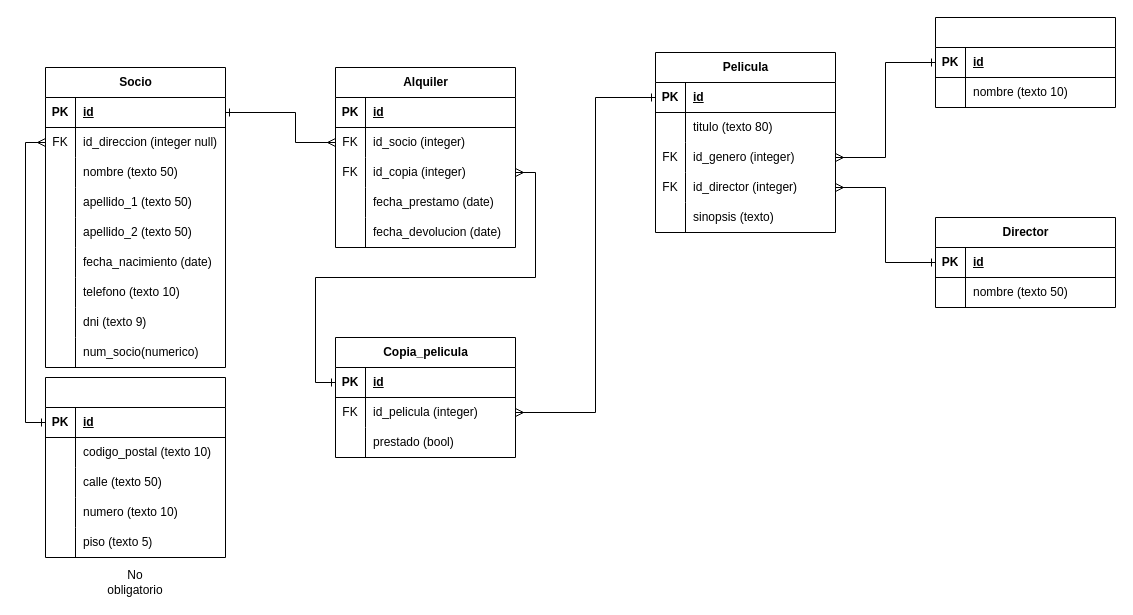
This 1133x615 diagram has some shape labels left out. Each missing label, with the box of its shape:
Direccion: (44, 376, 226, 558)
Genero: (934, 16, 1116, 108)
